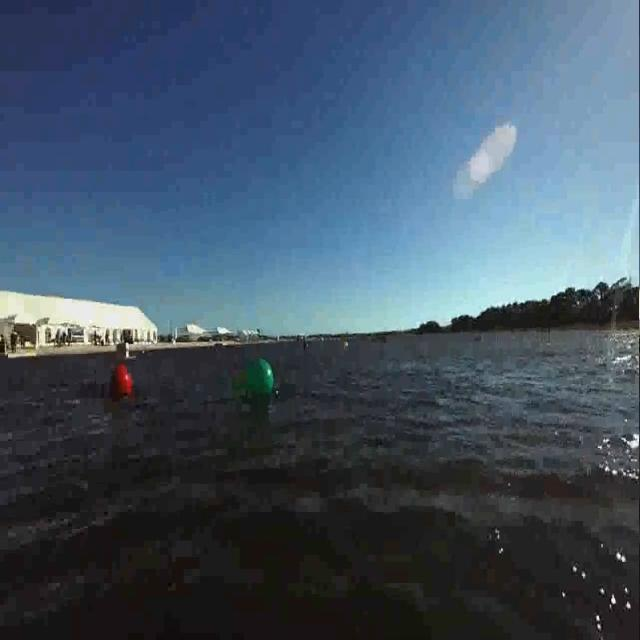green-buoy: (246, 358, 279, 397)
red-buoy: (113, 367, 134, 400)
